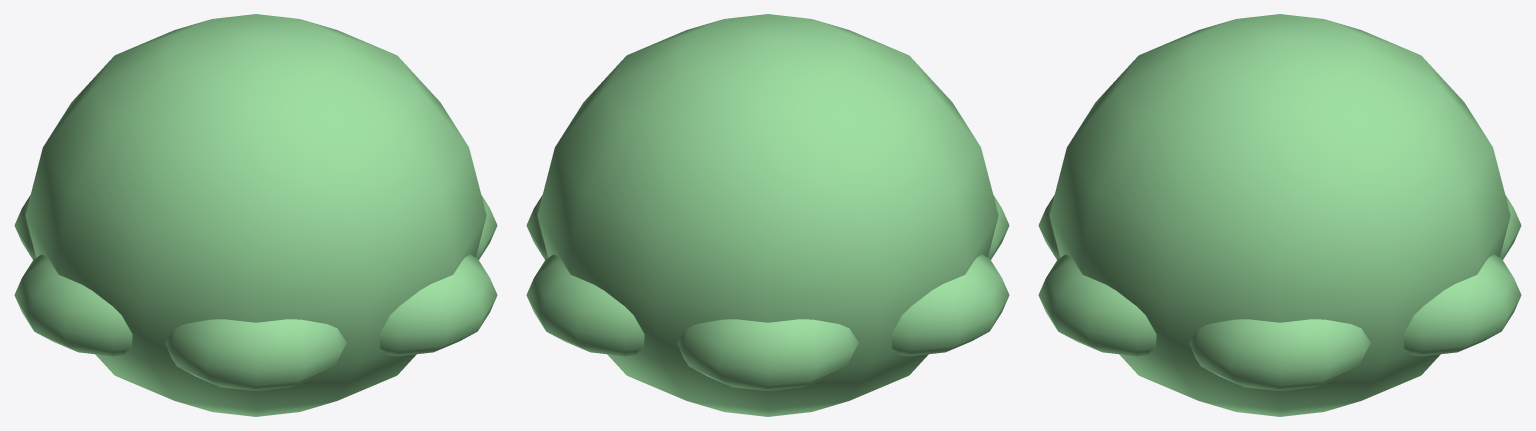
File: crop_lettuce_mature.glb
The picture shows the model from 3 angles, left to right: view 1: azimuth 30°, elevation 25°; view 2: azimuth 150°, elevation 25°; view 3: azimuth 270°, elevation 25°; orthographic projection.
Visible parts, largest first — view 1: Crop_Lettuce_Mature; view 2: Crop_Lettuce_Mature; view 3: Crop_Lettuce_Mature.
Part boxes in pixels (left/top/right/bottom): Crop_Lettuce_Mature: left=14, top=14, right=497, bottom=416; Crop_Lettuce_Mature: left=526, top=14, right=1009, bottom=416; Crop_Lettuce_Mature: left=1038, top=14, right=1521, bottom=416.
Bounding box in the file's own units: 0.32 × 0.238 × 0.2932.
